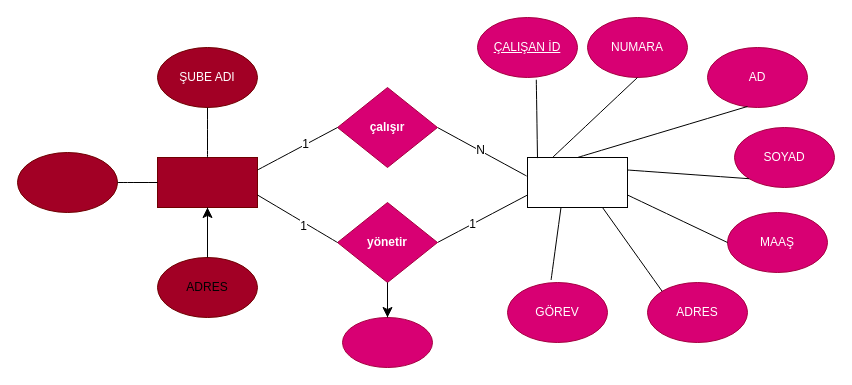
Some shapes in this 852 by 385 pixel diagram are drawn without their labels. The shapes that lost their labels are listed below. From the top down, each one's centre as x and y in pixels, then its label:
the point at 207,182: ŞUBE
the point at 577,182: ÇALIŞAN
the point at 387,342: YÖNETİCİ İD
